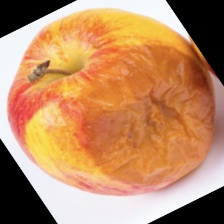apple: (49, 24, 184, 219)
